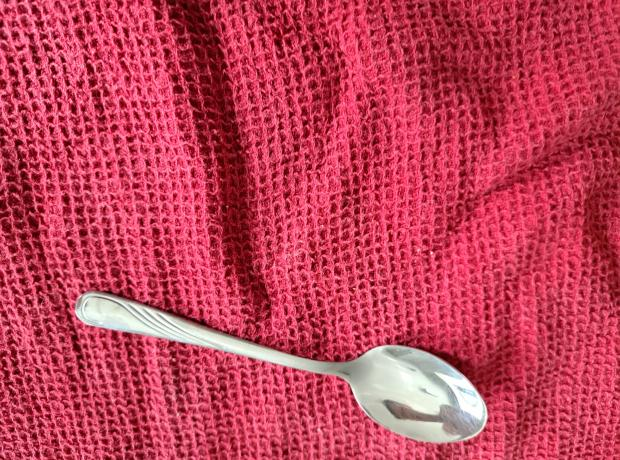metal: (58, 287, 490, 444)
